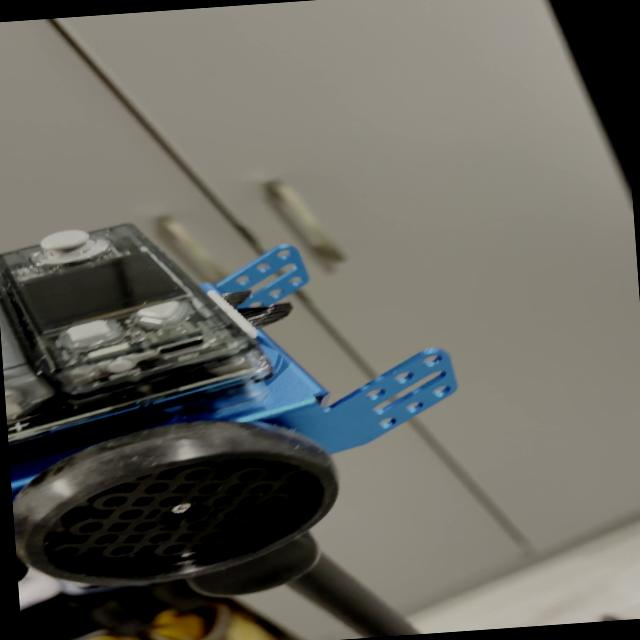mbot-detection: (0, 187, 477, 596)
